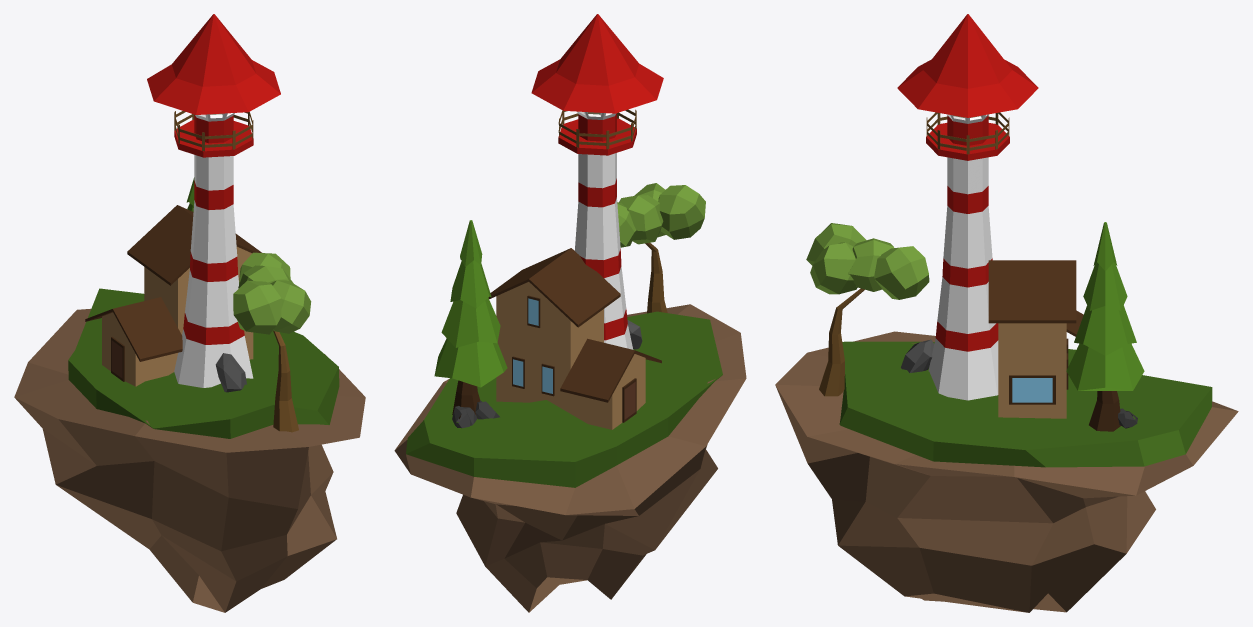
The model's file is halifax.glb.
The picture shows the model from 3 angles, left to right: view 1: azimuth 30°, elevation 25°; view 2: azimuth 150°, elevation 25°; view 3: azimuth 270°, elevation 25°; orthographic projection. The views are drawn at different scales.
Visible parts, largest first — view 1: Cone, Cone.001, Cylinder.008, Cylinder.001, Cube.011, Plane.001, Plane, Cube.012, Cylinder, Cube.010, Plane.011, Icosphere (+3 smaller); view 2: Cone, Cone.001, Cube.011, Cylinder.008, Cylinder.001, Cylinder.002, Plane.001, Plane, Cube.012, Cube.009, Plane.011, Cylinder (+3 smaller); view 3: Cone, Cone.001, Cylinder.008, Cylinder.001, Cylinder.002, Plane.001, Cube.011, Cube.013, Cube.010, Cylinder, Cube.001, Cube.009 (+4 smaller).
Part boxes in pixels (<box>): Cone: <box>14,308,365,612</box>; Cone.001: <box>68,288,339,438</box>; Cylinder.008: <box>174,113,253,387</box>; Cylinder.001: <box>147,14,280,114</box>; Cube.011: <box>102,246,253,386</box>; Plane.001: <box>127,205,261,285</box>; Plane: <box>85,297,182,361</box>; Cube.012: <box>233,280,281,334</box>; Cylinder: <box>273,330,298,432</box>; Cube.010: <box>270,280,311,333</box>; Plane.011: <box>174,111,253,151</box>; Icosphere: <box>215,353,246,392</box>; Cone: <box>394,304,746,612</box>; Cone.001: <box>406,311,722,487</box>; Cube.011: <box>496,282,645,429</box>; Cylinder.008: <box>558,111,636,349</box>; Cylinder.001: <box>531,14,663,113</box>; Cylinder.002: <box>434,220,507,387</box>; Plane.001: <box>488,248,620,327</box>; Plane: <box>560,338,661,402</box>; Cube.012: <box>658,185,705,239</box>; Cube.009: <box>619,195,663,244</box>; Plane.011: <box>558,109,636,149</box>; Cylinder: <box>645,242,667,313</box>; Cone: <box>775,331,1238,612</box>; Cone.001: <box>839,341,1212,467</box>; Cylinder.008: <box>926,114,1009,400</box>; Cylinder.001: <box>897,14,1038,117</box>; Cylinder.002: <box>1066,222,1144,390</box>; Plane.001: <box>988,260,1076,323</box>; Cube.011: <box>998,323,1066,418</box>; Cube.013: <box>874,246,929,299</box>; Cube.010: <box>810,242,857,294</box>; Cylinder: <box>819,288,864,396</box>; Cube.001: <box>1009,375,1055,404</box>; Cube.009: <box>848,238,893,291</box>.
Bounding box in the file's own units: 12 × 25.24 × 17.74.
2 materials, 2 textured.
